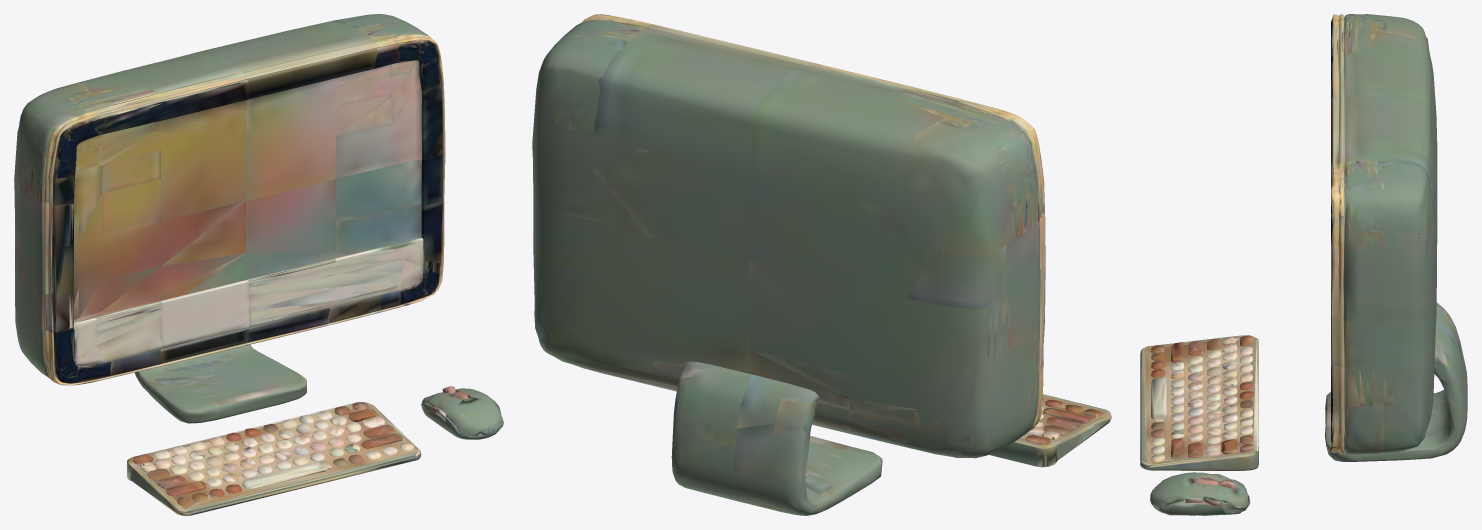
Rendered from computer_retro.glb.
3 renders of one model, left to right at view 1: azimuth 30°, elevation 25°; view 2: azimuth 150°, elevation 25°; view 3: azimuth 270°, elevation 25°, orthographic. The views are drawn at different scales.
Parts seen in each view (by area): view 1: prop; view 2: prop; view 3: prop.
Boxes of the visible parts, x1=… form: prop: x1=14, y1=14, x2=503, y2=515; prop: x1=532, y1=14, x2=1111, y2=515; prop: x1=1140, y1=14, x2=1467, y2=515.
Size of the model in its own units: 0.75 by 0.6015 by 0.5276.
1 material, 1 textured.
